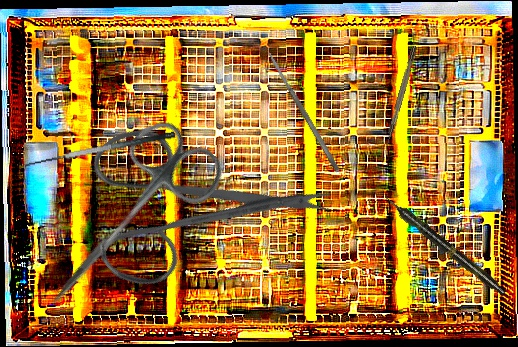Handpiece: (380, 191, 509, 299)
Hook Surgical: (381, 45, 419, 153)
Iris Scissors: (46, 52, 340, 343), (19, 108, 232, 337)
Spatula Surgical: (265, 49, 342, 174), (23, 130, 178, 178)
